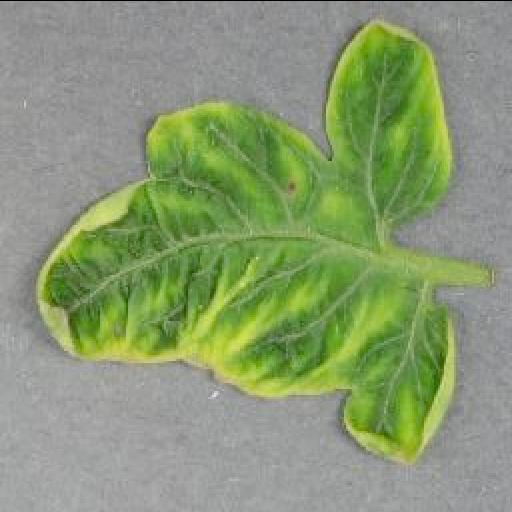disease_tomato: (37, 18, 459, 460)
